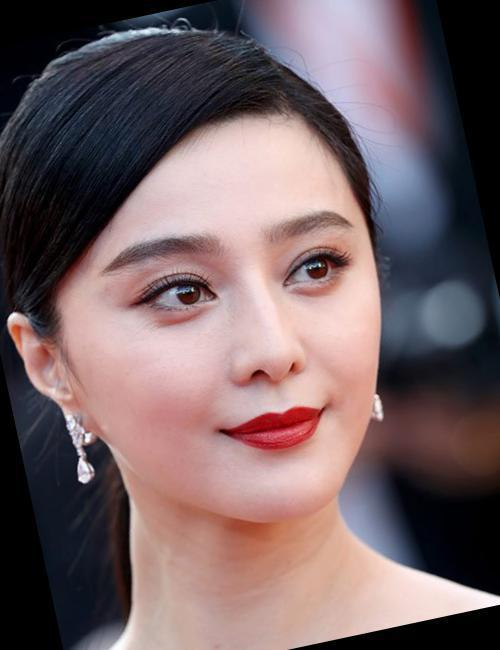Sober: (89, 152, 374, 491)
